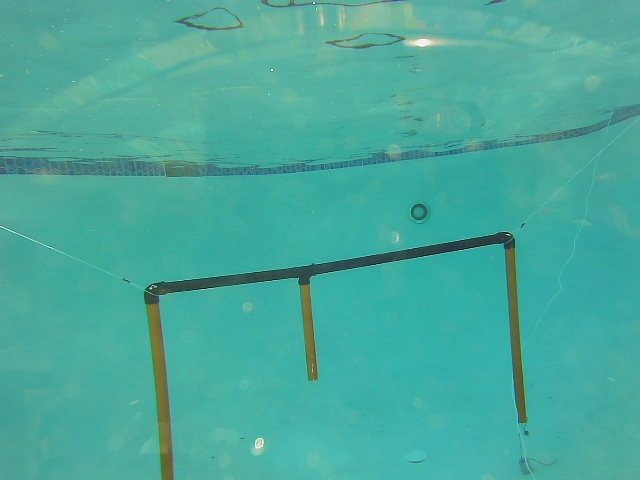Gate: (140, 299, 180, 480), (501, 241, 536, 423), (296, 279, 322, 385)
